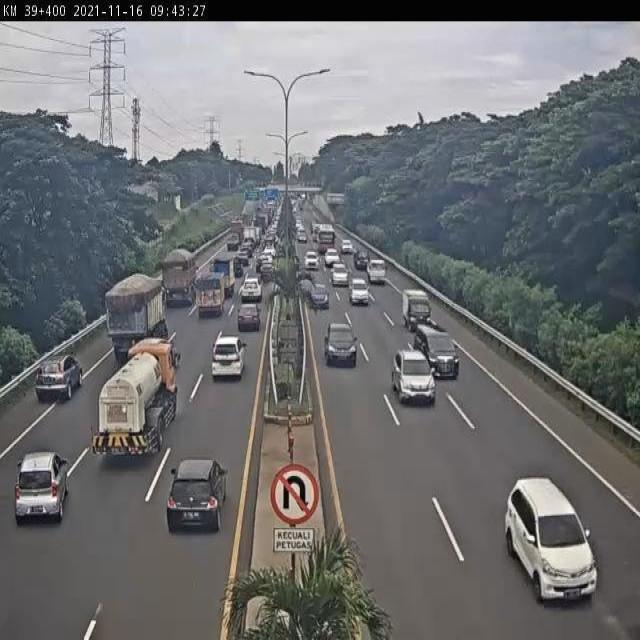Car: (499, 473, 600, 613), (160, 446, 233, 542), (8, 434, 74, 534), (31, 350, 88, 416), (415, 323, 461, 381), (390, 349, 436, 406), (206, 332, 248, 390), (321, 318, 363, 376), (394, 285, 439, 330), (235, 298, 262, 333), (344, 274, 370, 310), (306, 280, 331, 312), (366, 257, 390, 286), (240, 274, 262, 300), (329, 263, 348, 287), (351, 248, 369, 270), (304, 251, 320, 272), (324, 246, 339, 266)
Truck: (86, 338, 184, 466), (102, 273, 169, 349), (159, 248, 196, 308), (191, 278, 223, 316), (208, 255, 236, 297)
